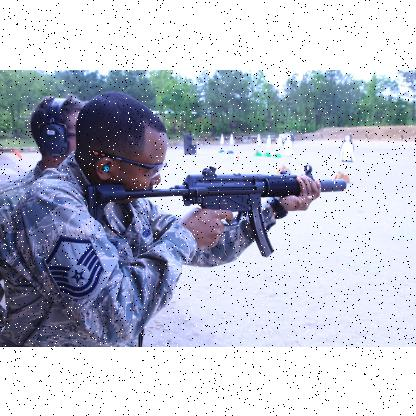gun: (85, 167, 345, 255)
